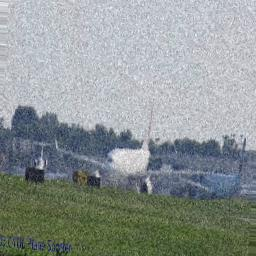Airplane: (50, 110, 247, 194)
